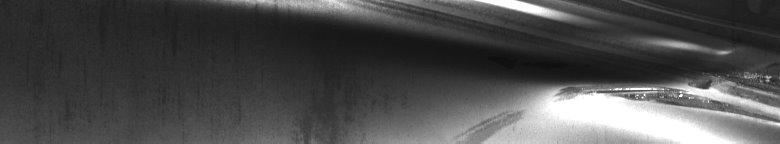ke: (205, 4, 776, 135)
